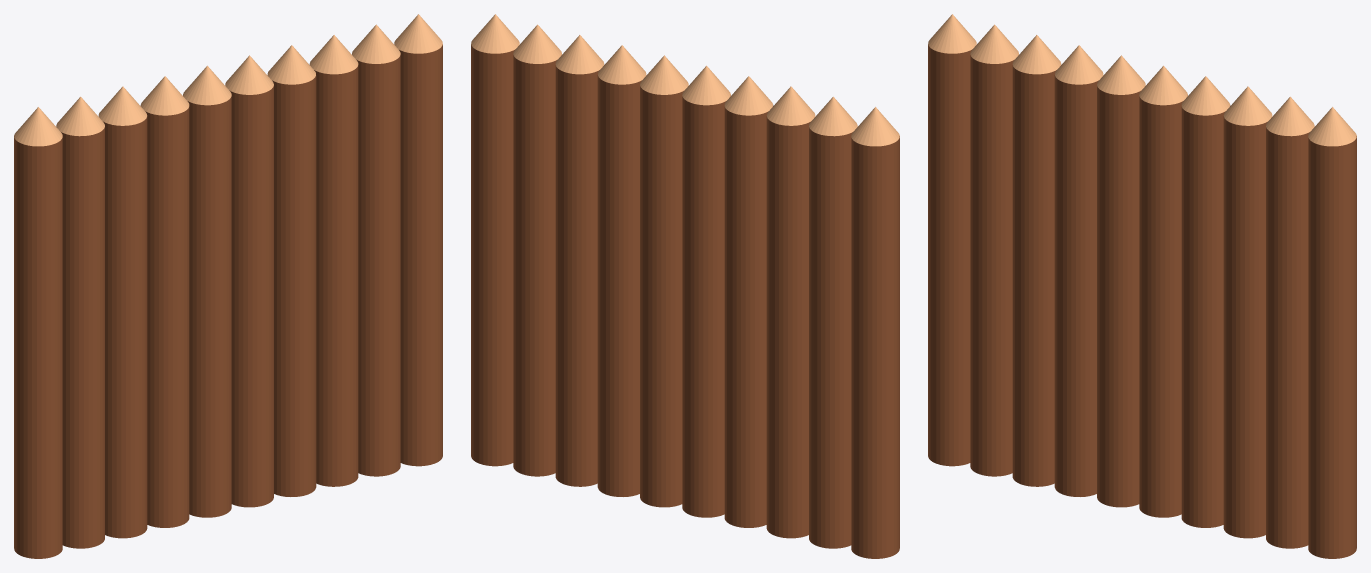
Rendered from spike_wall.glb.
The picture shows the model from 3 angles, left to right: view 1: azimuth 30°, elevation 25°; view 2: azimuth 150°, elevation 25°; view 3: azimuth 330°, elevation 25°; orthographic projection.
Visible parts, largest first — view 1: Pole, Pole.002, Pole.007, Pole.006, Pole.004, Pole.008, Pole.001, Pole.009, Pole.005, Pole.003; view 2: Pole, Pole.002, Pole.007, Pole.006, Pole.004, Pole.008, Pole.001, Pole.009, Pole.005, Pole.003; view 3: Pole.009, Pole.004, Pole.006, Pole.001, Pole.002, Pole.007, Pole.008, Pole, Pole.003, Pole.005.
Part boxes in pixels (<box>): Pole: <box>14,107,62,558</box>; Pole.002: <box>98,86,147,538</box>; Pole.007: <box>183,65,231,517</box>; Pole.006: <box>225,55,273,507</box>; Pole.004: <box>309,35,358,486</box>; Pole.008: <box>352,24,400,476</box>; Pole.001: <box>56,96,104,548</box>; Pole.009: <box>394,14,442,466</box>; Pole.005: <box>267,45,316,496</box>; Pole.003: <box>140,76,189,527</box>; Pole: <box>851,107,899,558</box>; Pole.002: <box>766,86,815,538</box>; Pole.007: <box>682,65,730,517</box>; Pole.006: <box>640,55,688,507</box>; Pole.004: <box>555,35,604,486</box>; Pole.008: <box>513,24,561,476</box>; Pole.001: <box>809,96,857,548</box>; Pole.009: <box>471,14,519,466</box>; Pole.005: <box>597,45,646,496</box>; Pole.003: <box>724,76,773,527</box>; Pole.009: <box>1308,107,1356,558</box>; Pole.004: <box>1223,86,1272,538</box>; Pole.006: <box>1139,65,1187,517</box>; Pole.001: <box>970,24,1018,476</box>; Pole.002: <box>1012,35,1061,486</box>; Pole.007: <box>1097,55,1145,507</box>; Pole.008: <box>1266,96,1314,548</box>; Pole: <box>928,14,976,466</box>; Pole.003: <box>1054,45,1103,496</box>; Pole.005: <box>1181,76,1230,527</box>.
Bounding box in the file's own units: 3 × 3 × 0.3.
